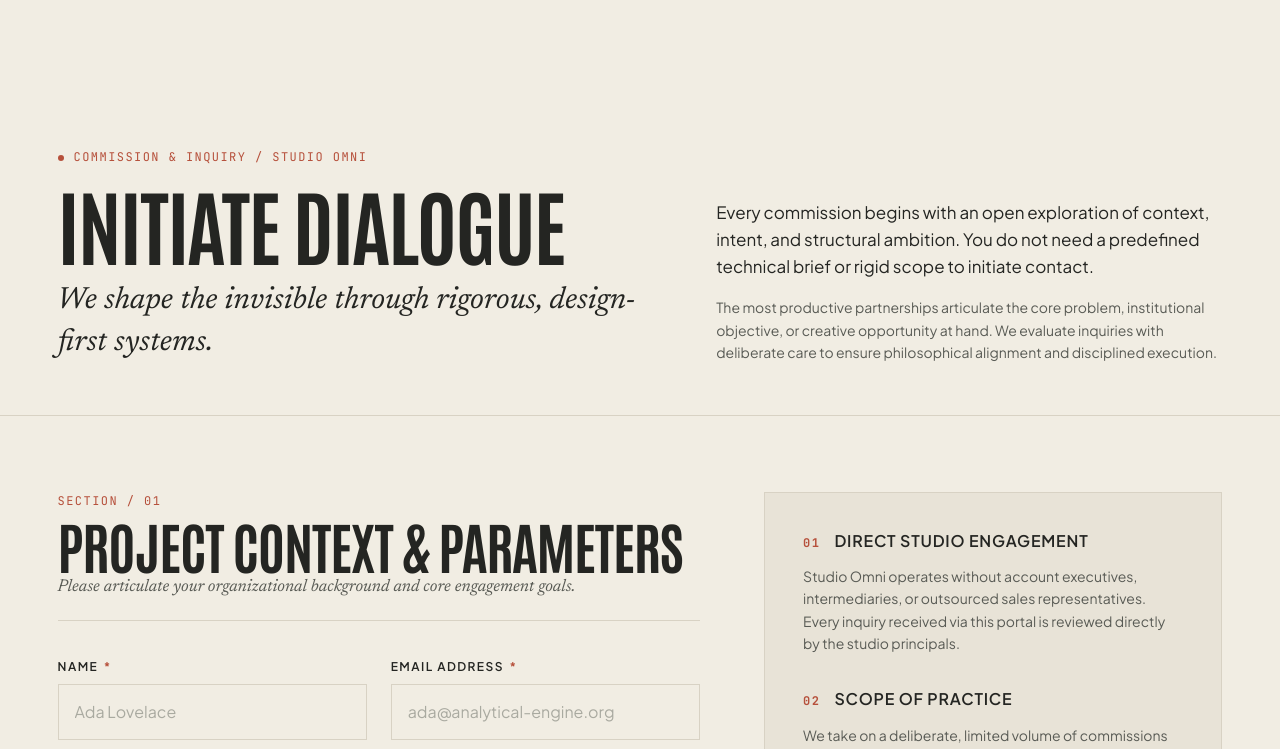
it: Studio Omni Contact System & Inquiry Protocol › API Submission Lifecycle › preserves form data when server reports rate limiting and allows retry
In the field labelled "Name *": point(212, 712) [58,684,367,740], type "Marcus Chen"
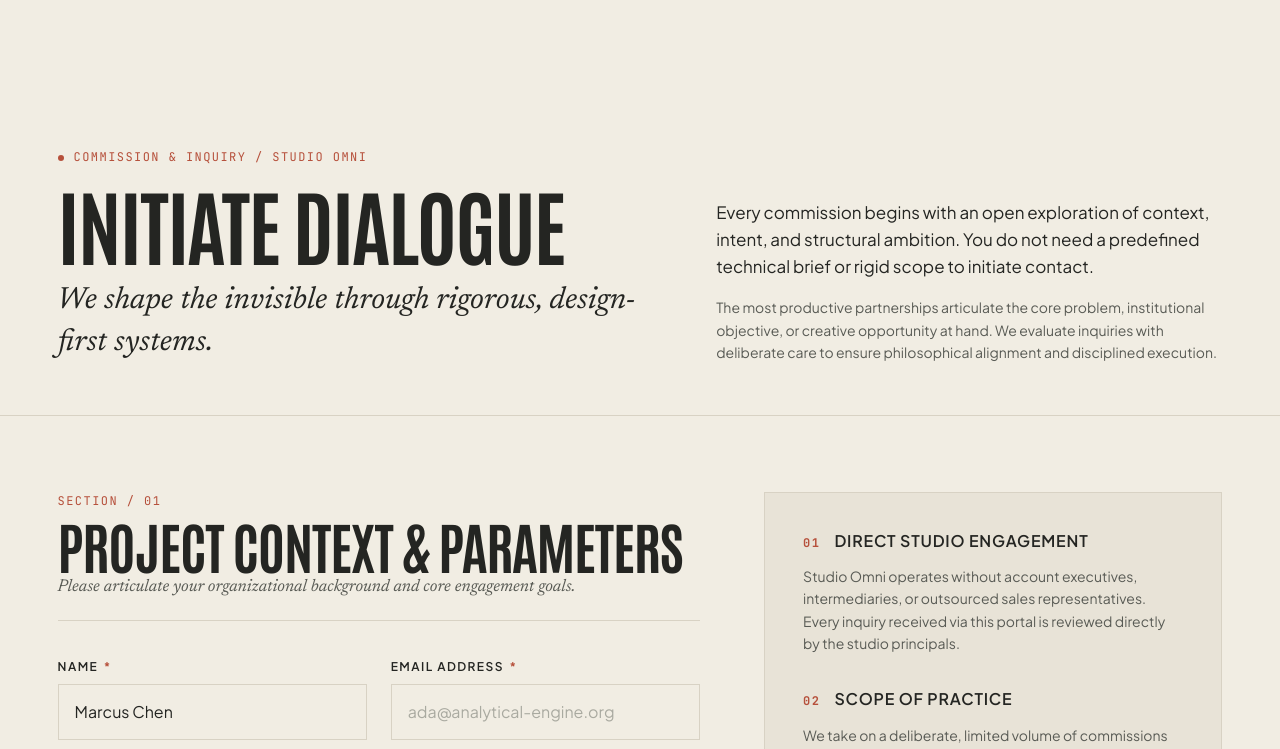
In the field labelled "Email Address *": point(545, 712) [391,684,700,740], type "marcus@chen-arch.com"
(page scrolled)
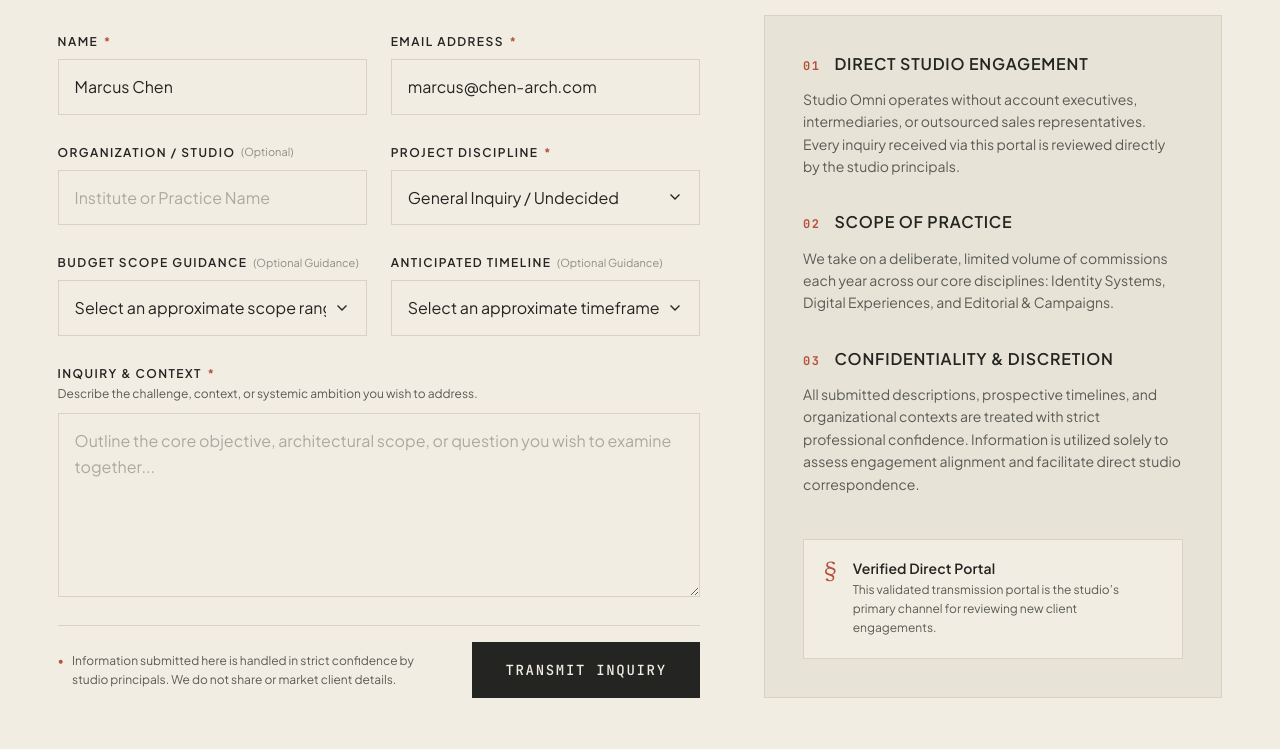
Replace the text in the text box labelled "Inquiry & Context *" with "Inquiring about spatial identity and architectural signage system.": point(379, 505) [58,413,700,597]
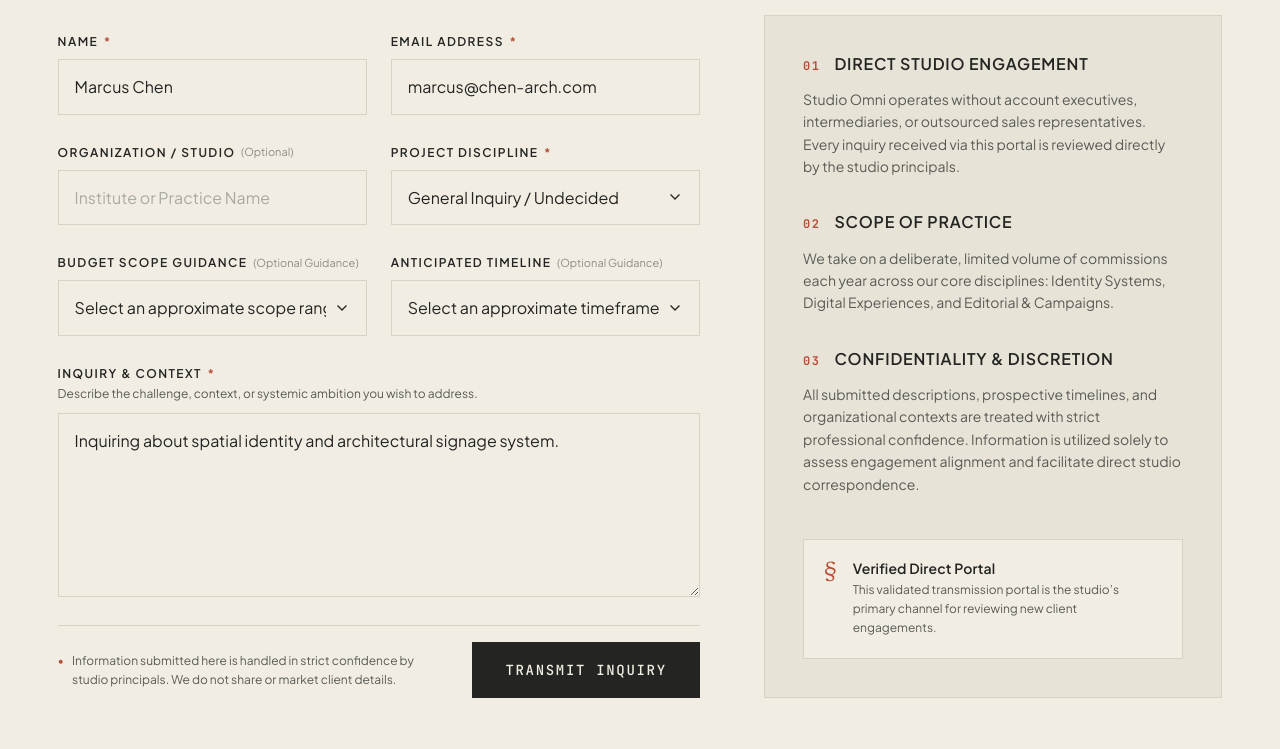
Click the button "Transmit Inquiry": point(586, 670) [472,642,700,698]
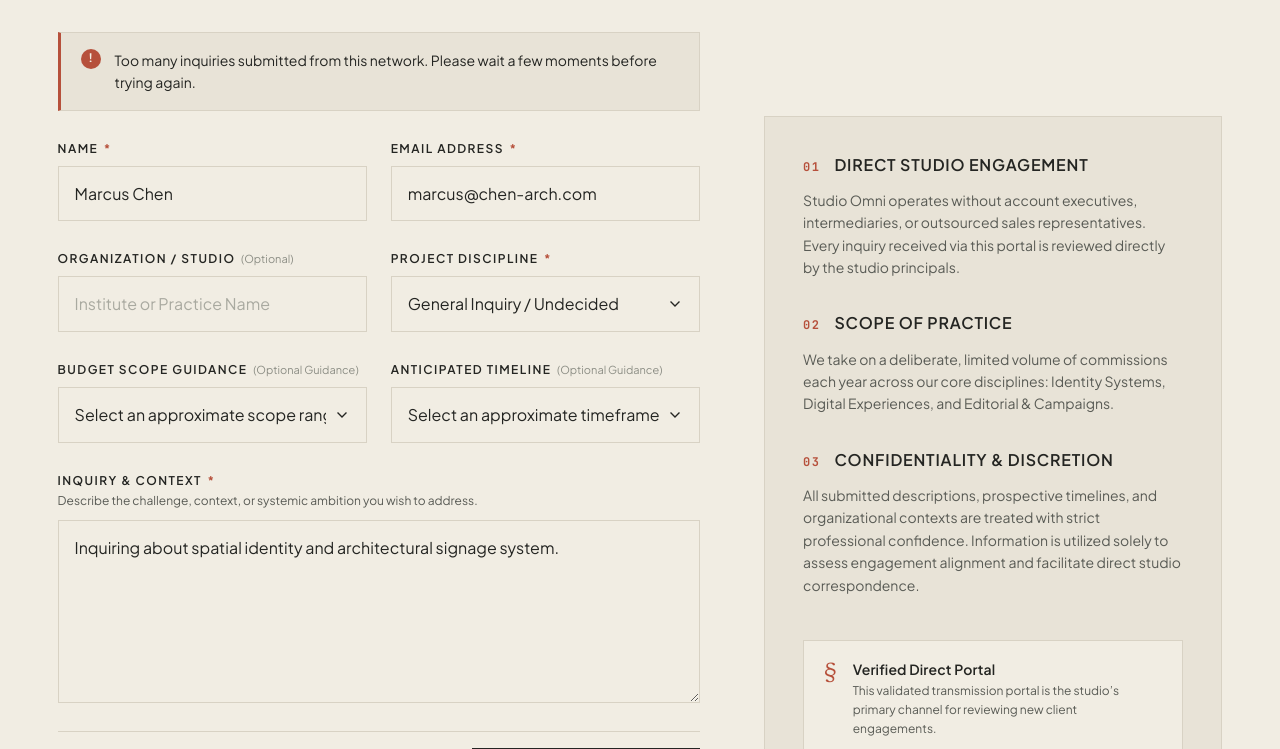
expect the message is shown: met, box [58,32,700,110]
expect the text "Too many inquiries" is shown: met, box [115,51,657,91]
